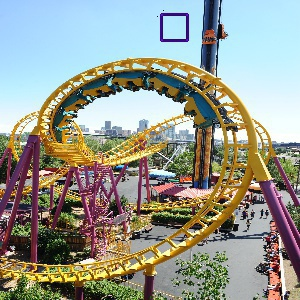square: (158, 11, 190, 44)
